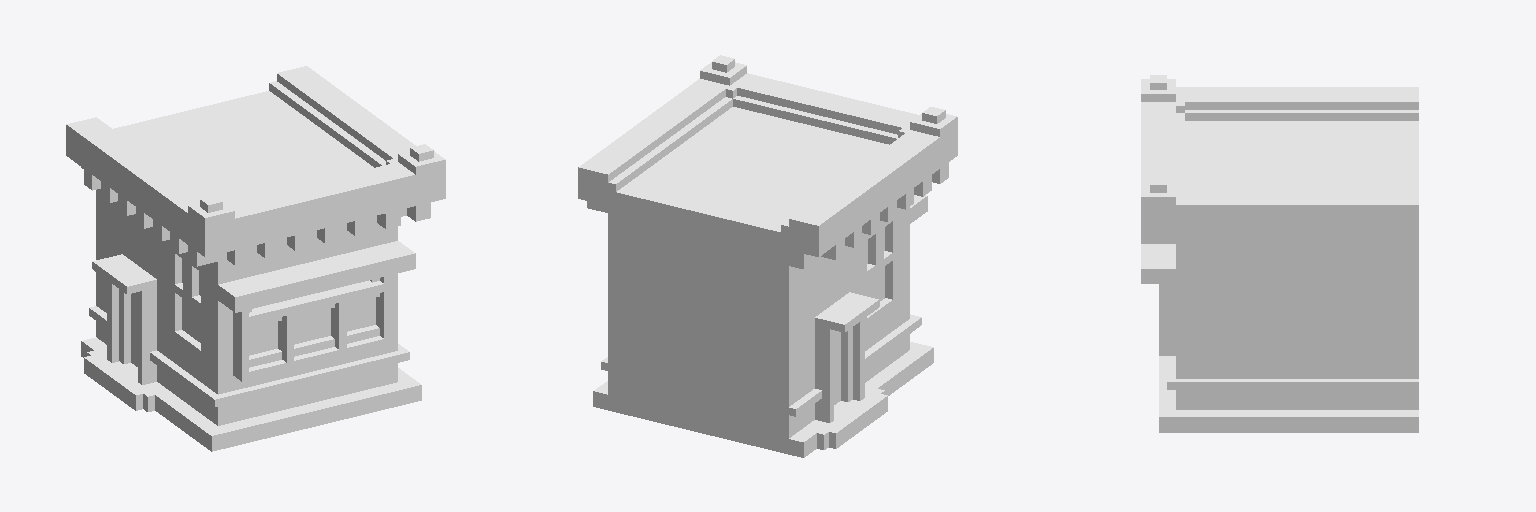
The model's file is tile_1_left_90.obj.
The picture shows the model from 3 angles: view 1: azimuth 30°, elevation 25°; view 2: azimuth 150°, elevation 25°; view 3: azimuth 270°, elevation 25°; orthographic projection.
Parts seen in each view (by area): view 1: object 1; view 2: object 1; view 3: object 1.
Part boxes in pixels (left/top/right/bottom): object 1: left=66, top=66, right=445, bottom=451; object 1: left=578, top=55, right=957, bottom=457; object 1: left=1141, top=75, right=1418, bottom=432.
Size of the model in its own units: 3.2 by 3.2 by 3.2.